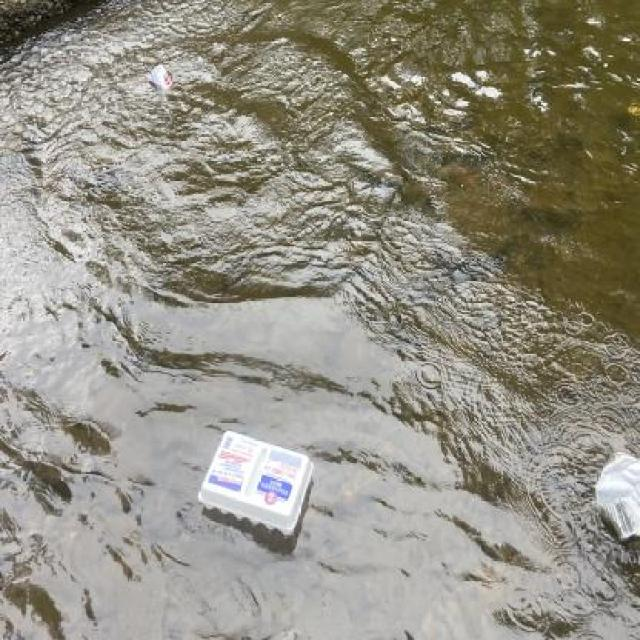Can-Metal: (587, 444, 640, 546), (147, 59, 176, 98)
Plastic: (192, 424, 317, 538)
